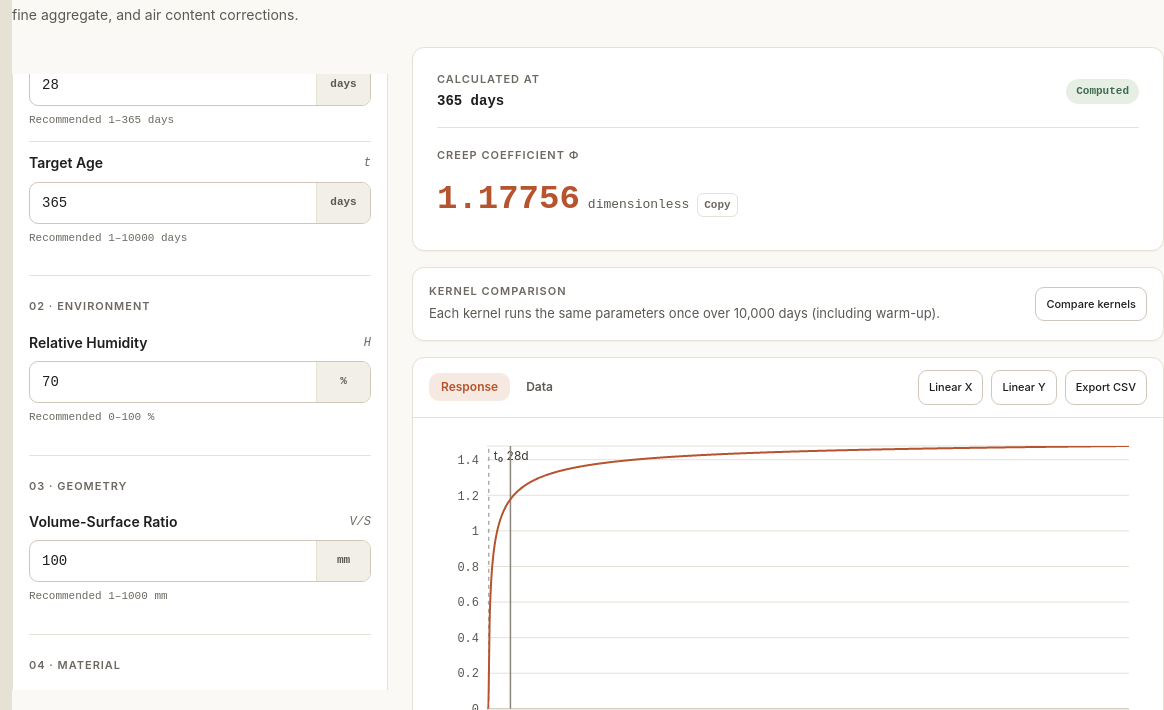
Test: Chinese fragments are marked with their language › the calculation workspace, whose messages now come from the catalogue
(page scrolled)
Expected: the text "Computed" is shown, [1066,79,1139,104]
Replace the text in the number field labelled "Relative Humidity" with "500" at (173, 382), box [30,362,316,402]
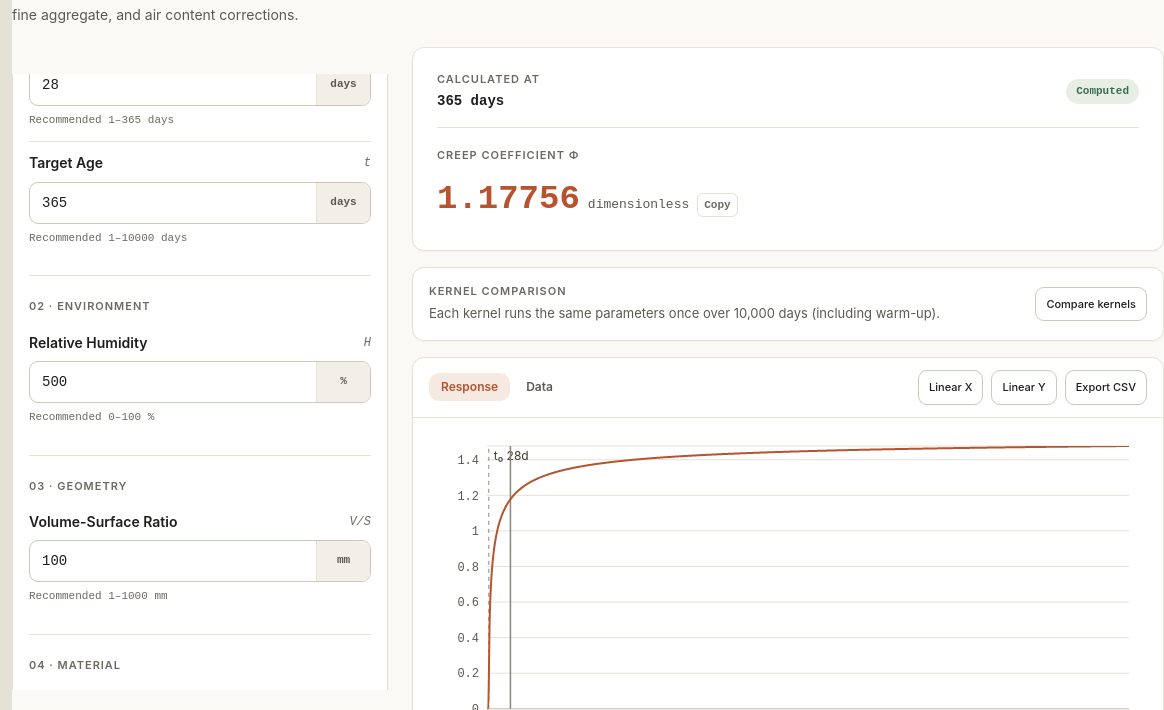
Leave the number field labelled "Relative Humidity", box [30,362,316,402]
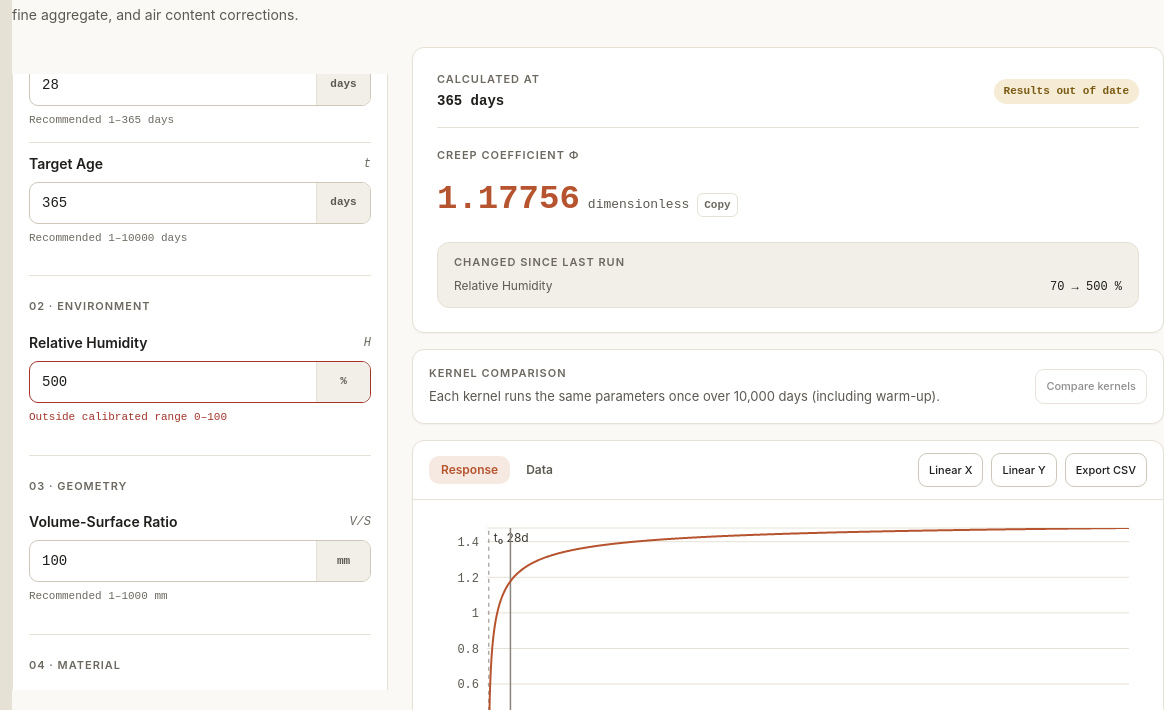
Now the text "Outside calibrated range 0–100" is shown, box [29,411,227,423]
Replace the text in the number field labelled "Relative Humidity" with "35" at (173, 382), box [30,362,316,402]
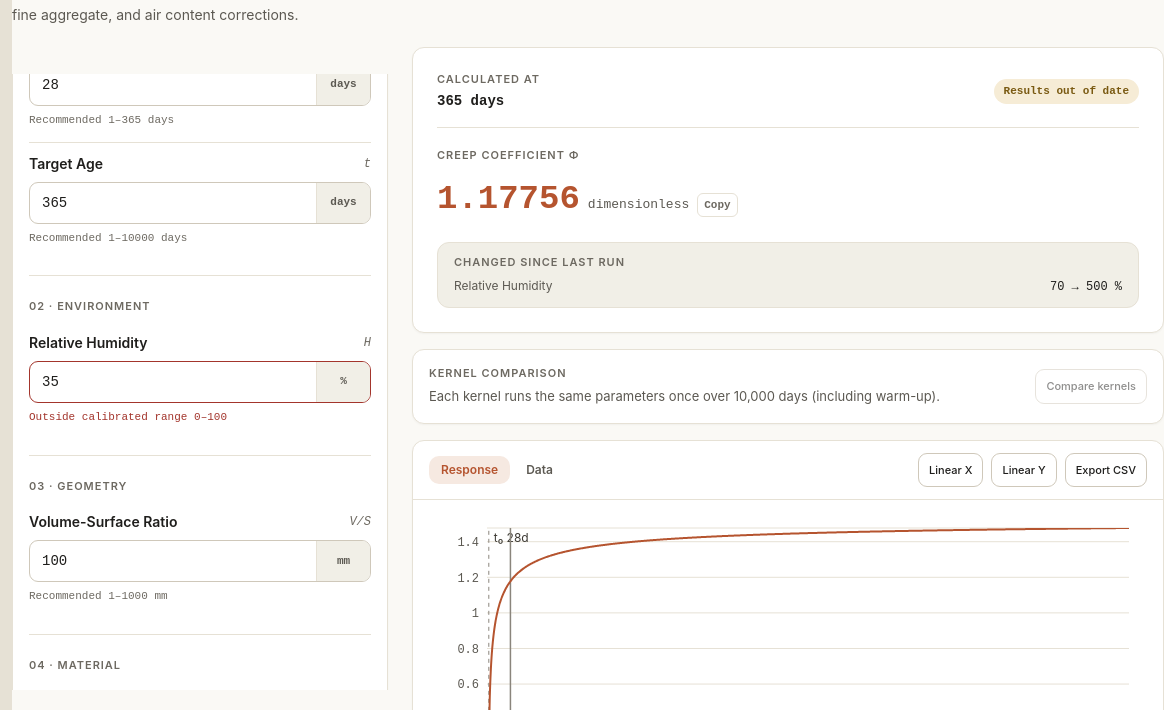
Leave the number field labelled "Relative Humidity", box [30,362,316,402]
(page scrolled)
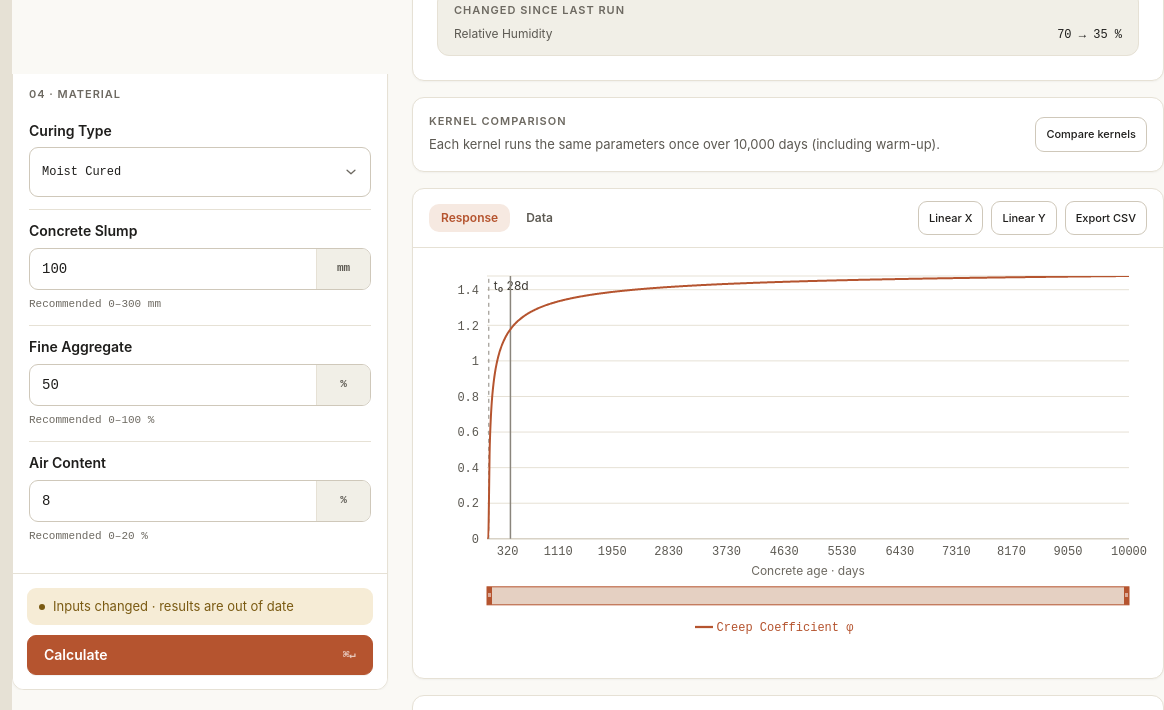
Now the text "Inputs changed · results are out of date" is shown, box [27,589,373,625]
